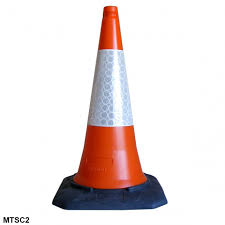cones: (52, 5, 170, 209)
